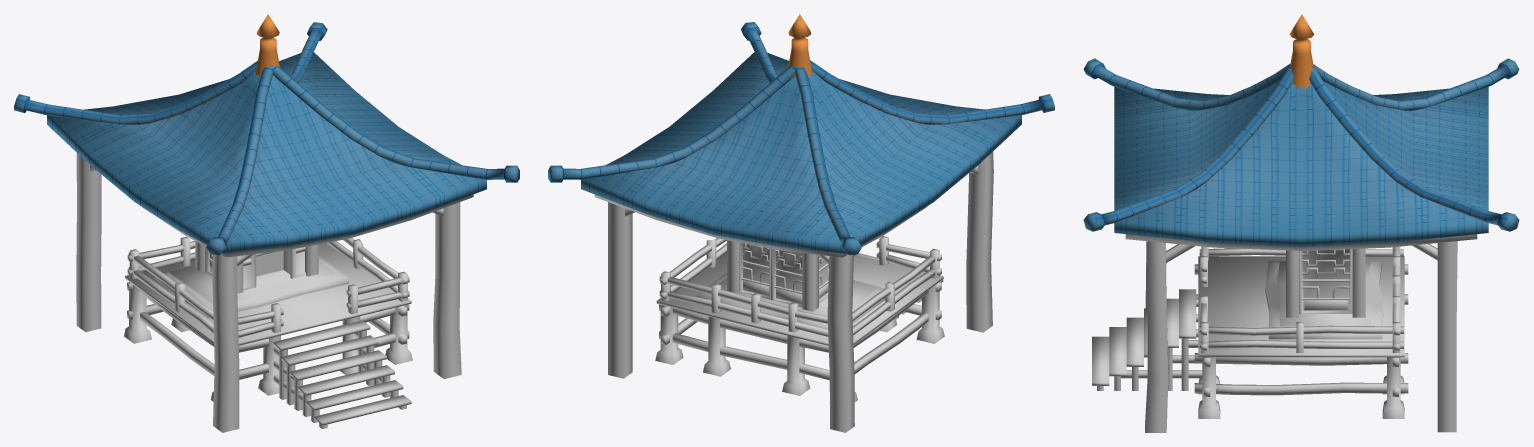
Rendered from Shrine_1.fbx.
3 renders of one model, left to right at view 1: azimuth 30°, elevation 25°; view 2: azimuth 150°, elevation 25°; view 3: azimuth 270°, elevation 25°, orthographic. The views are drawn at different scales.
Visible parts, largest first — view 1: Shrine_1; view 2: Shrine_1; view 3: Shrine_1.
Part boxes in pixels (<box>): Shrine_1: <box>14,14,519,432</box>; Shrine_1: <box>548,14,1054,432</box>; Shrine_1: <box>1083,14,1519,432</box>.
Size of the model in its own units: 4.12 by 4.22 by 4.67.
